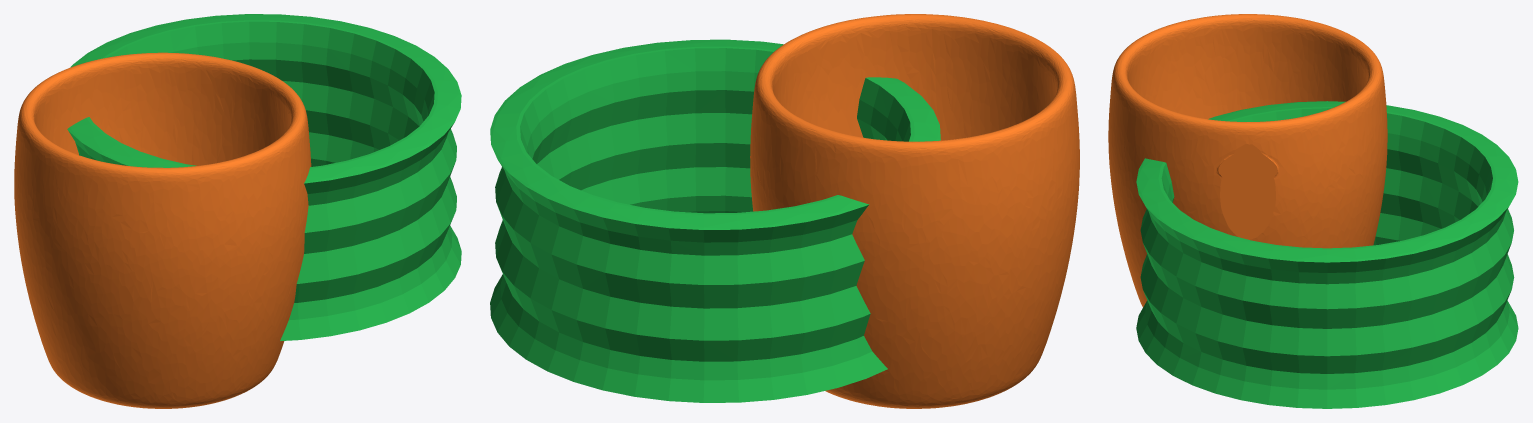
The model's file is Mug.gltf.
3 views of the same model, side by side, from view 1: azimuth 30°, elevation 25°; view 2: azimuth 150°, elevation 25°; view 3: azimuth 270°, elevation 25° (orthographic). The views are drawn at different scales.
Bounding box in the file's own units: 0.1801 × 0.0998 × 0.1539.
